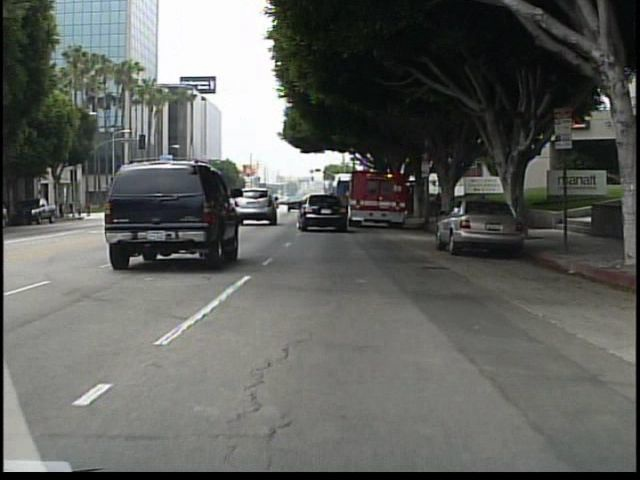person: (74, 197, 86, 221), (84, 199, 97, 220)
